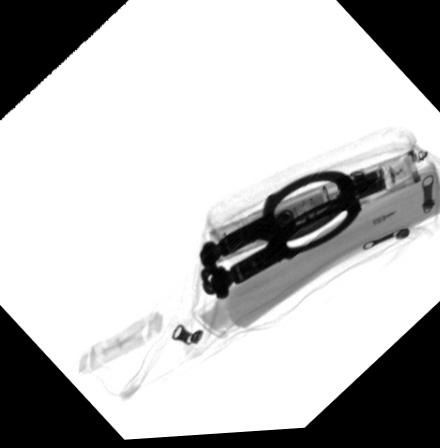Baton: (206, 153, 422, 267)
HandCuffs: (195, 172, 362, 304)
